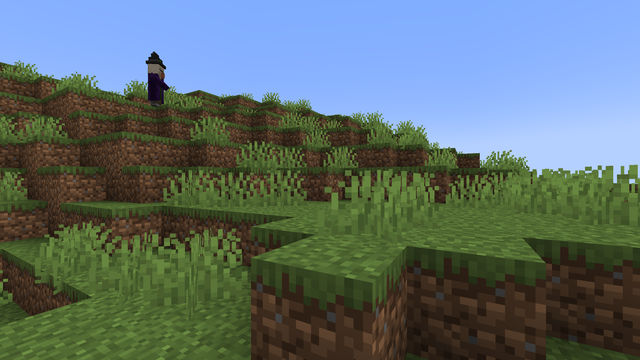sorcieres: (145, 60, 165, 106)
